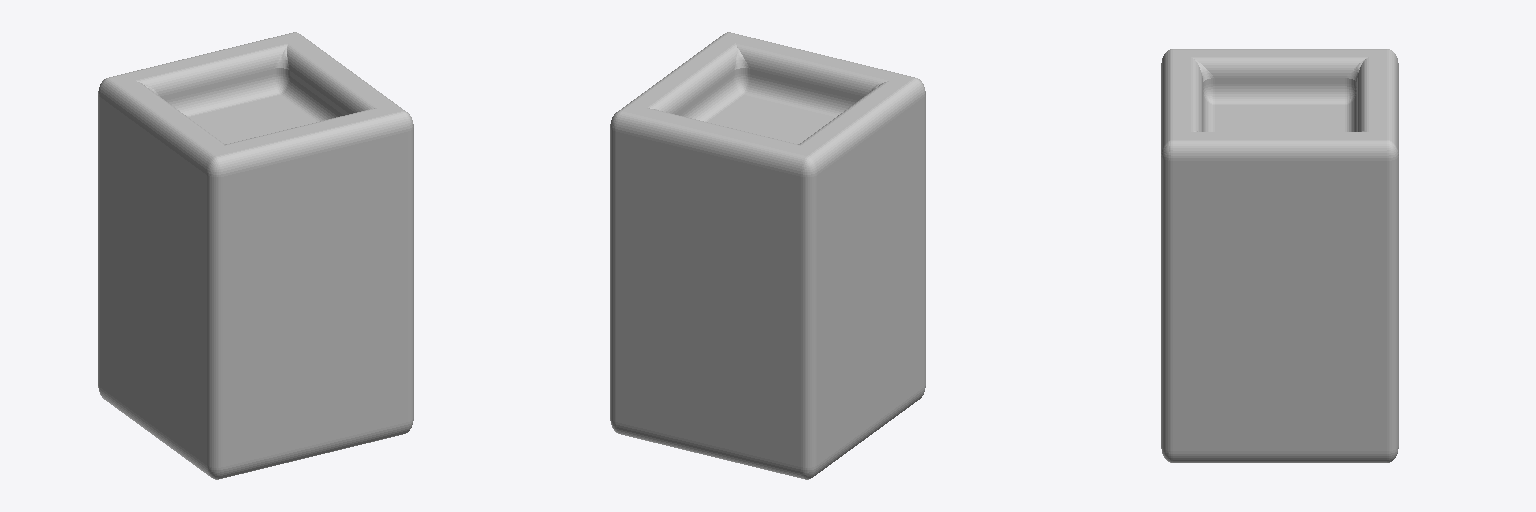
File: server.obj
3 views of the same model, side by side, from view 1: azimuth 30°, elevation 25°; view 2: azimuth 150°, elevation 25°; view 3: azimuth 270°, elevation 25° (orthographic).
Parts seen in each view (by area): view 1: Cube; view 2: Cube; view 3: Cube.
Part boxes in pixels (x1,y1,x2,y2): Cube: (98,32,413,479); Cube: (610,32,925,479); Cube: (1161,49,1398,462).
Size of the model in its own units: 0.4 by 0.6 by 0.4.